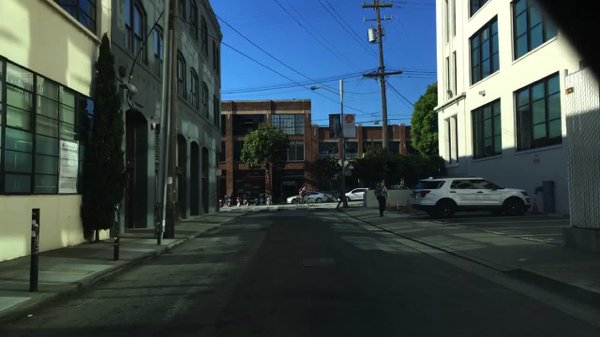bike: (294, 195, 315, 207)
car: (410, 176, 530, 219), (285, 191, 327, 205), (336, 188, 374, 202), (385, 185, 410, 190)
motor: (225, 195, 233, 207), (242, 195, 250, 206), (253, 194, 260, 206), (235, 197, 242, 207), (266, 195, 272, 205), (219, 199, 223, 207)
person: (374, 183, 388, 219), (334, 187, 348, 209)
rider: (298, 186, 308, 204)
traffic sign: (343, 115, 355, 138), (338, 139, 343, 160), (215, 167, 222, 176)
